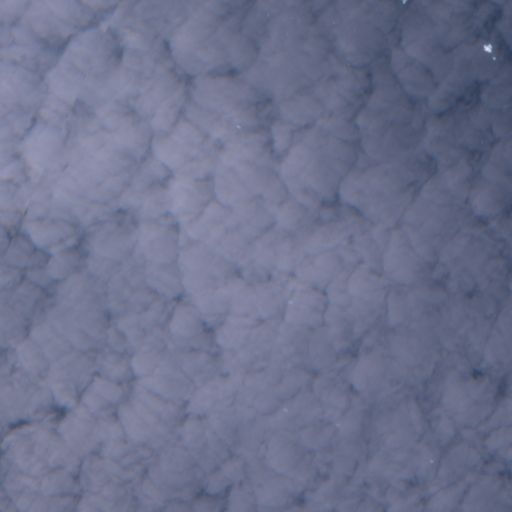Iceberg: (484, 44, 491, 52), (402, 0, 407, 3), (284, 408, 287, 411), (237, 125, 240, 127), (493, 57, 495, 59), (430, 460, 432, 462)
